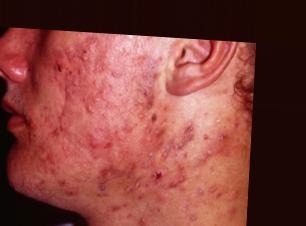Acne: (49, 40, 240, 212)
